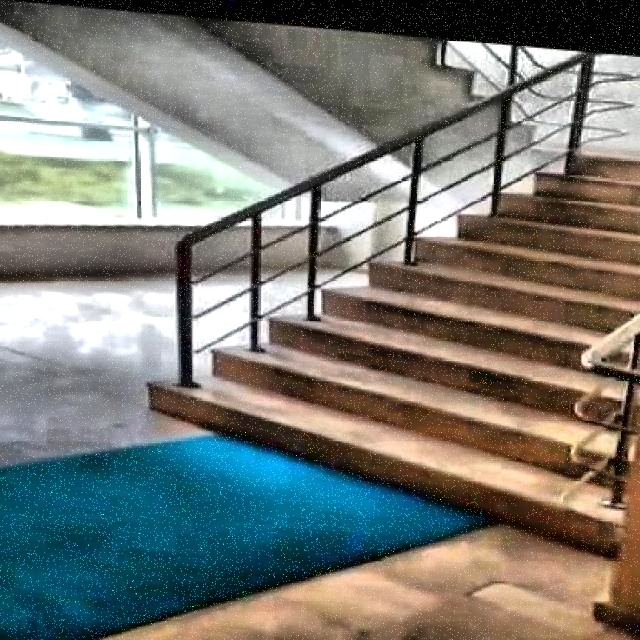stair: (123, 60, 639, 551)
